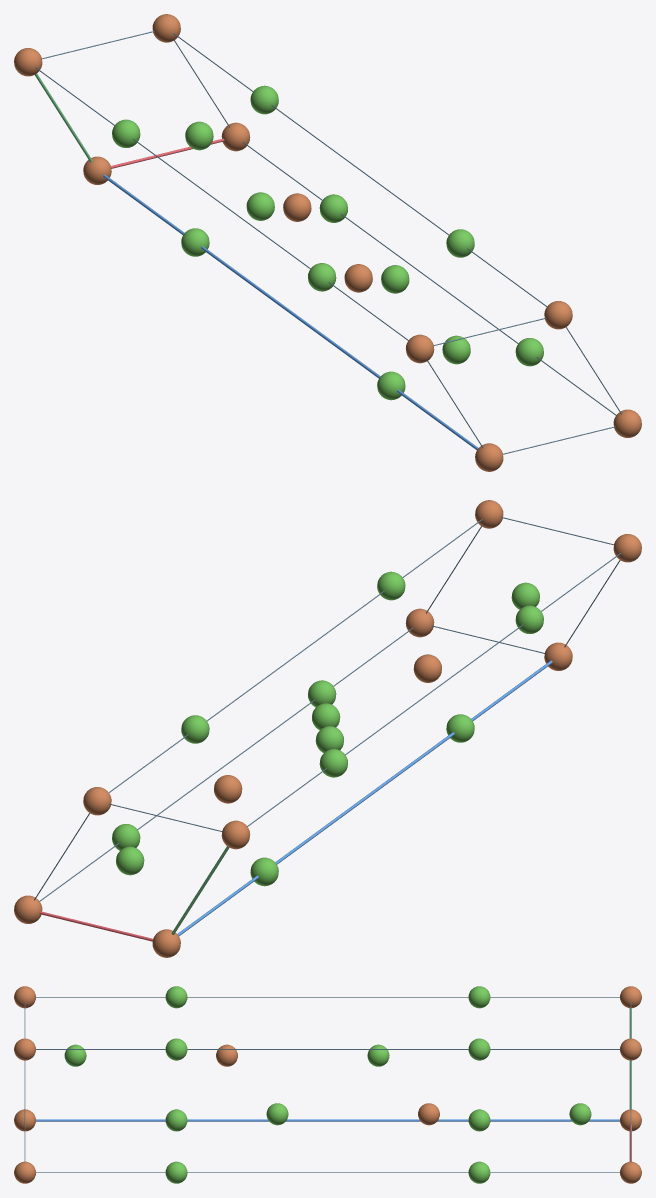
Rendered from chat-ferrous-chloride.glb.
3 views of the same model, one above another, from view 1: azimuth 30°, elevation 25°; view 2: azimuth 150°, elevation 25°; view 3: azimuth 270°, elevation 25° (orthographic). The views are drawn at different scales.
Visible parts, largest first — view 1: Cl · Cl · 1 (×12), Fe · Fe · 1 (×9), Ô mạng và các trục a, b, c; view 2: Fe · Fe · 1 (×10), Ô mạng và các trục a, b, c, Cl · Cl · 1 (×7); view 3: Cl · Cl · 1 (×12), Fe · Fe · 1 (×10), Ô mạng và các trục a, b, c.
Part boxes in pixels (x1,y1,x2,y2): Cl · Cl · 1 (×12): (112,85,543,400); Fe · Fe · 1 (×9): (14,14,641,471); Ô mạng và các trục a, b, c: (35,31,621,454); Fe · Fe · 1 (×10): (14,500,641,957); Ô mạng và các trục a, b, c: (34,517,620,941); Cl · Cl · 1 (×7): (116,571,543,886); Cl · Cl · 1 (×12): (64,986,591,1183); Fe · Fe · 1 (×10): (14,986,641,1183); Ô mạng và các trục a, b, c: (24,997,631,1172).
Bounding box in the file's own units: 6.01 × 3.74 × 18.18.
